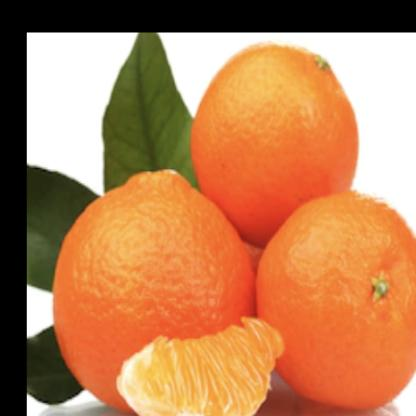fresh: (49, 49, 416, 416)
